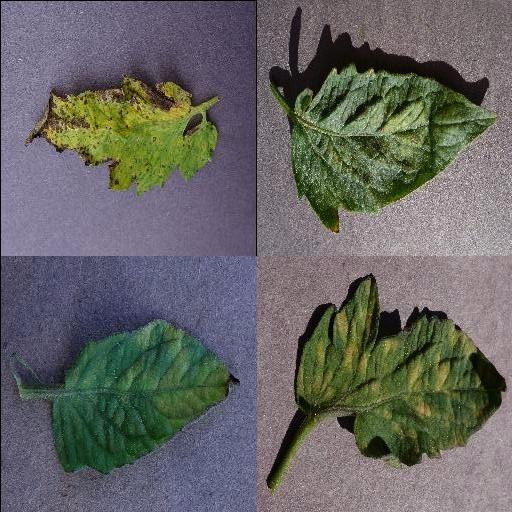Leaf Mold: (293, 276, 507, 468), (50, 320, 240, 475)
Septoria: (25, 77, 219, 190)
Spider Mites: (286, 64, 498, 234)
